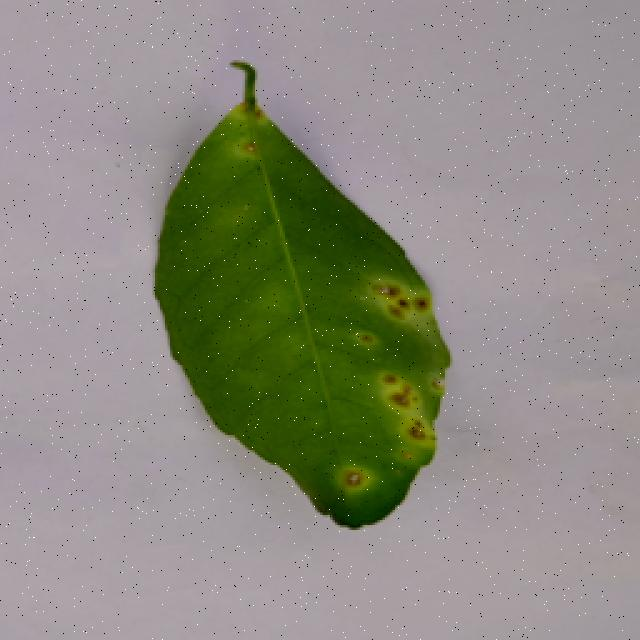canker: (147, 103, 467, 507)
